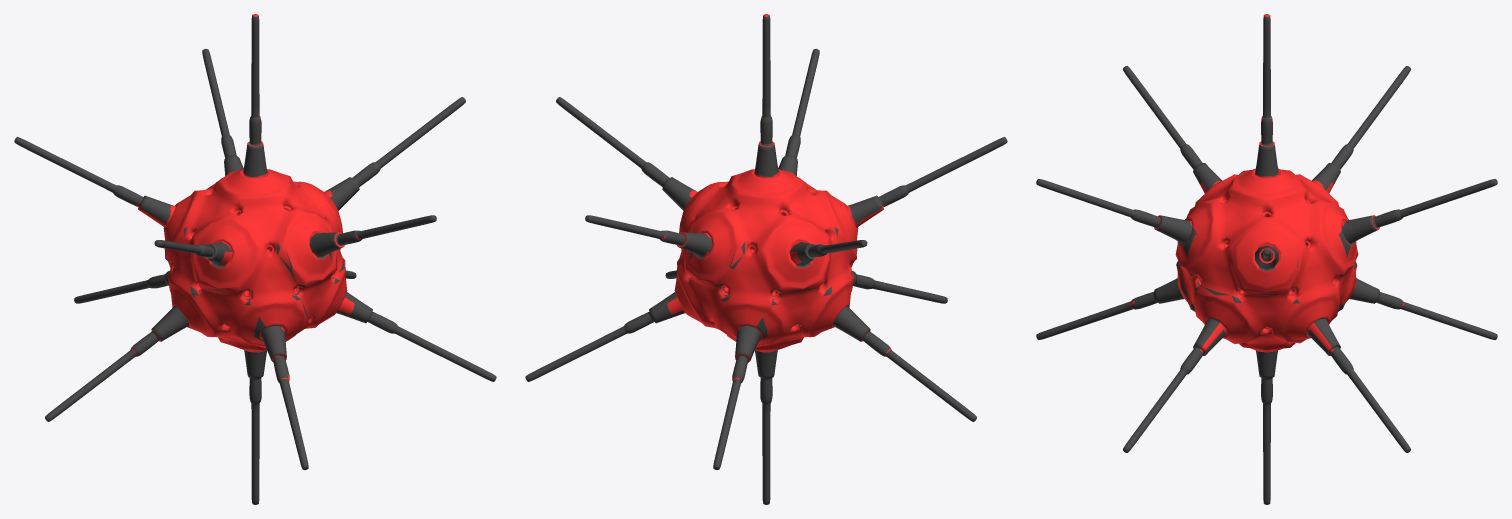
File: mine.FBX
The picture shows the model from 3 angles, left to right: view 1: azimuth 30°, elevation 25°; view 2: azimuth 150°, elevation 25°; view 3: azimuth 270°, elevation 25°; orthographic projection.
Parts seen in each view (by area): view 1: GeoSphere01; view 2: GeoSphere01; view 3: GeoSphere01.
Boxes of the visible parts, x1,y1,x2,y2 form: GeoSphere01: (14,14,496,504); GeoSphere01: (525,14,1007,504); GeoSphere01: (1036,14,1497,504).
Size of the model in its own units: 50.41 by 47.99 by 56.19.
1 material, 1 textured.
